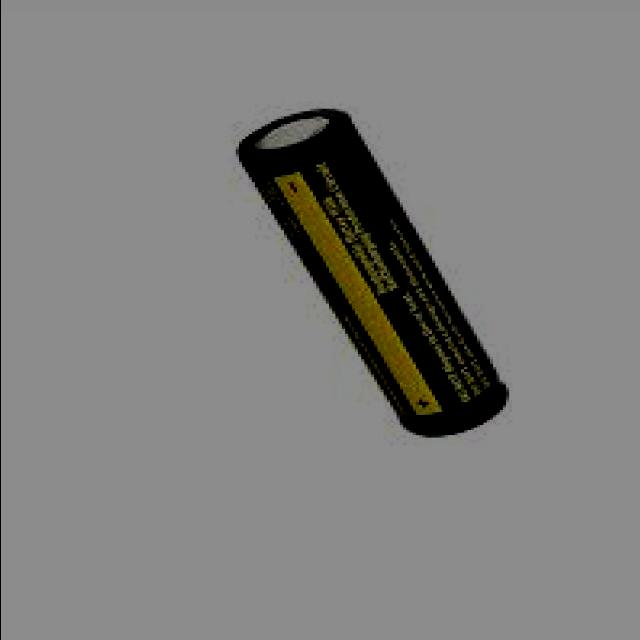AA: (236, 107, 511, 438)
